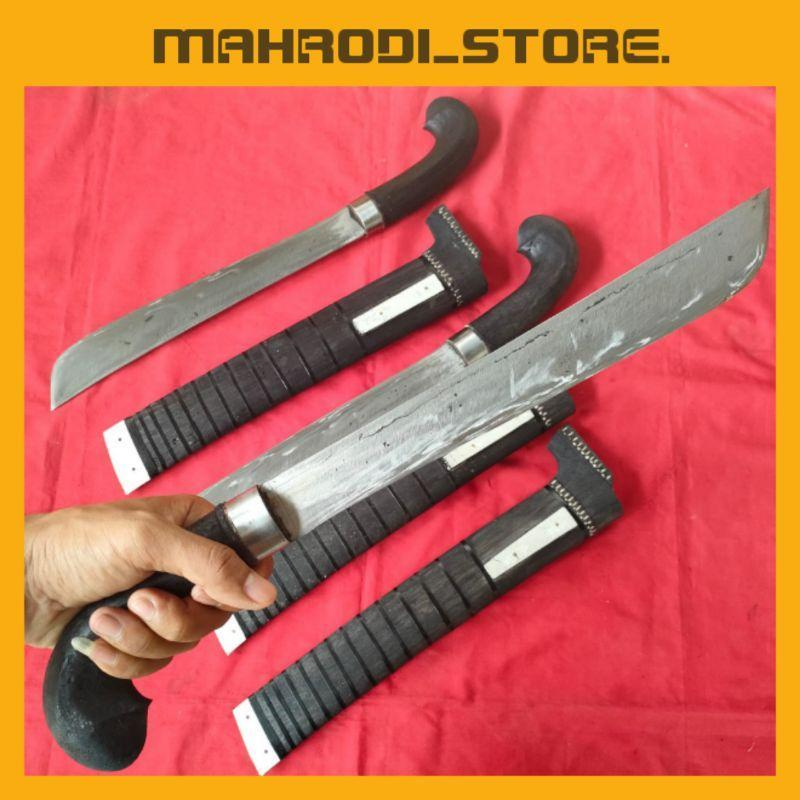facao: (50, 184, 773, 766), (48, 79, 472, 412)
